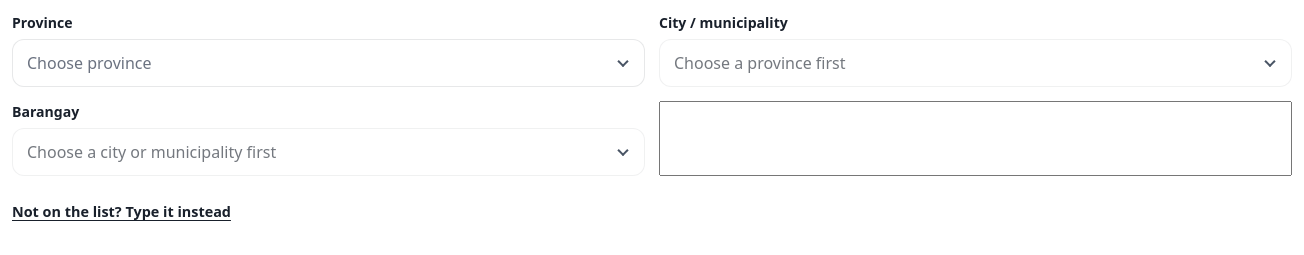
it: PlaceFields when the map fills the text boxes › replaces what the customer typed in a level the map found
Select "Cebu" in the dropdown labelled "Province" at coordinates (328, 63), box [12,39,645,87]
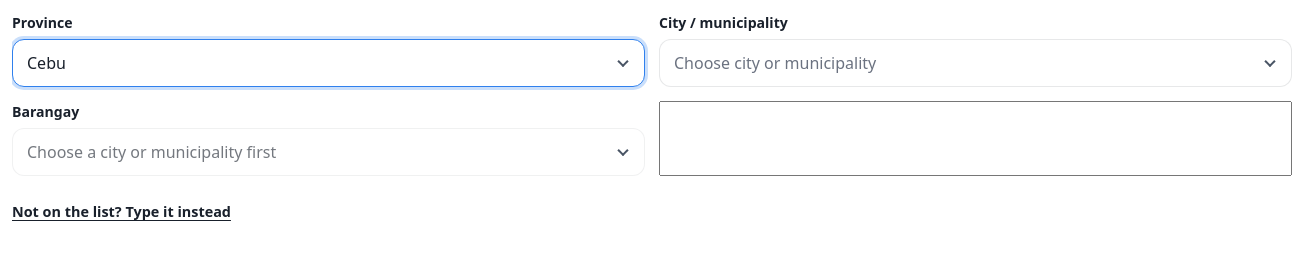
Click the button "Not on the list? Type it instead" at coordinates (122, 212), box [12,190,231,234]
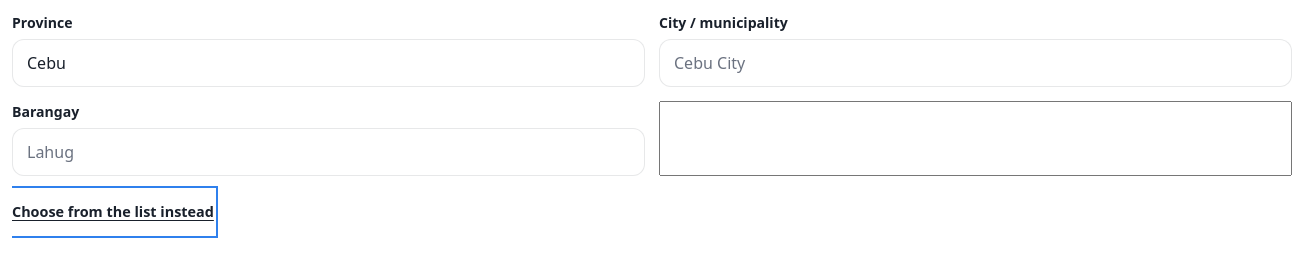
Type "Cebuu" into the field labelled "Province" at coordinates (328, 63), box [12,39,645,87]
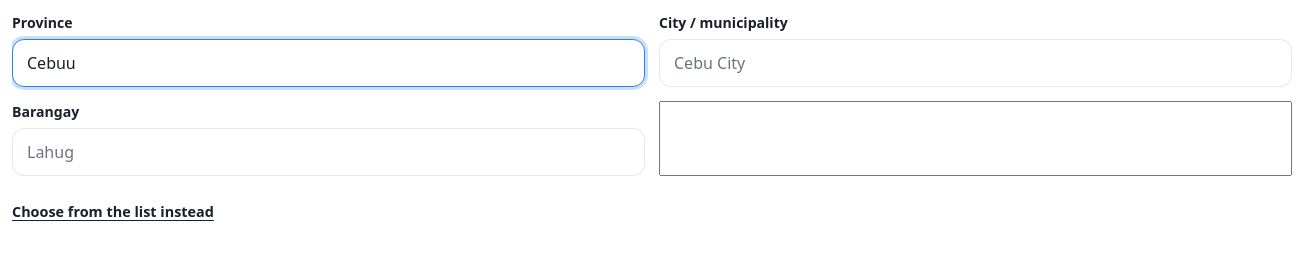
Type "Sogod" into the field labelled "City / municipality" at coordinates (976, 63), box [659,39,1292,87]
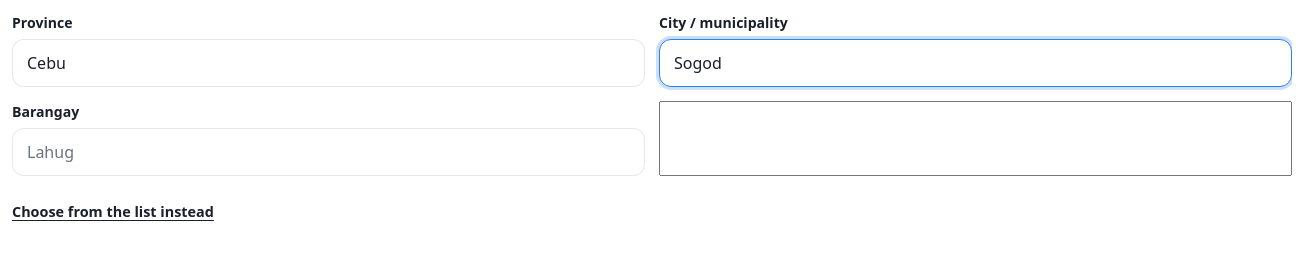
expect the field labelled "Province" holds "Cebu": met, box [12,39,645,87]
